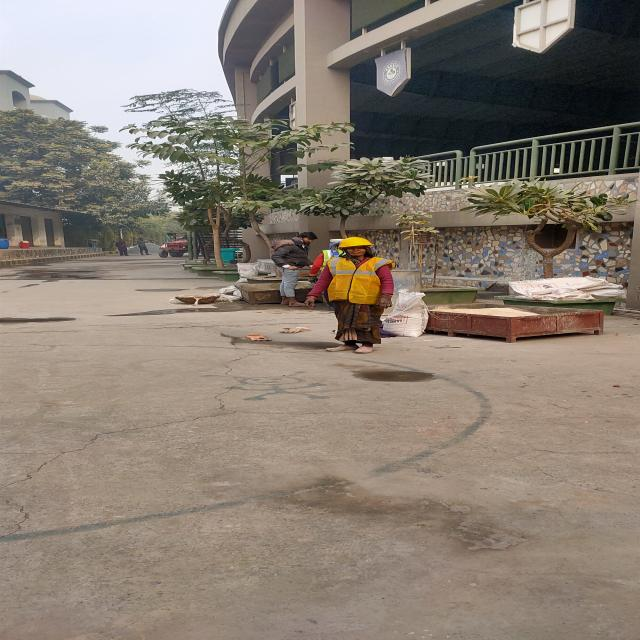safe: (307, 237, 393, 352)
unsafe: (276, 232, 316, 306)
